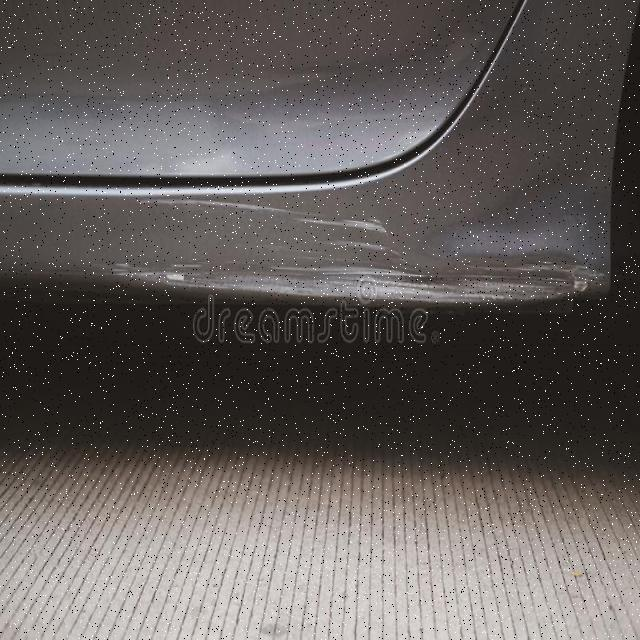RunningBoard-Dent: (0, 166, 625, 327)
